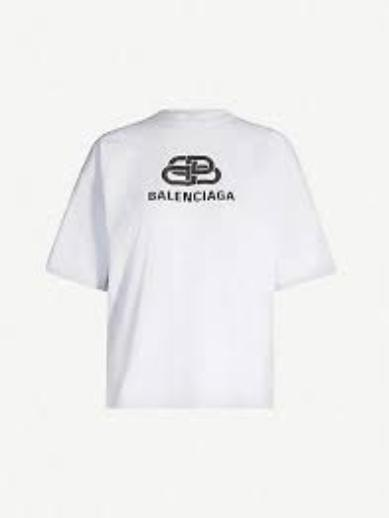BALENCIAGA: (159, 153, 223, 186), (142, 190, 238, 204)
